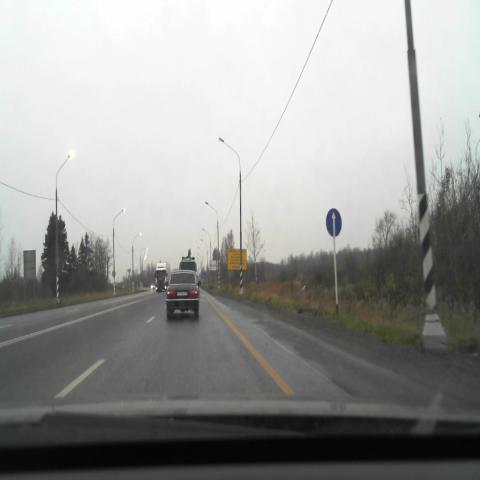4_1_1: (326, 208, 342, 237)
